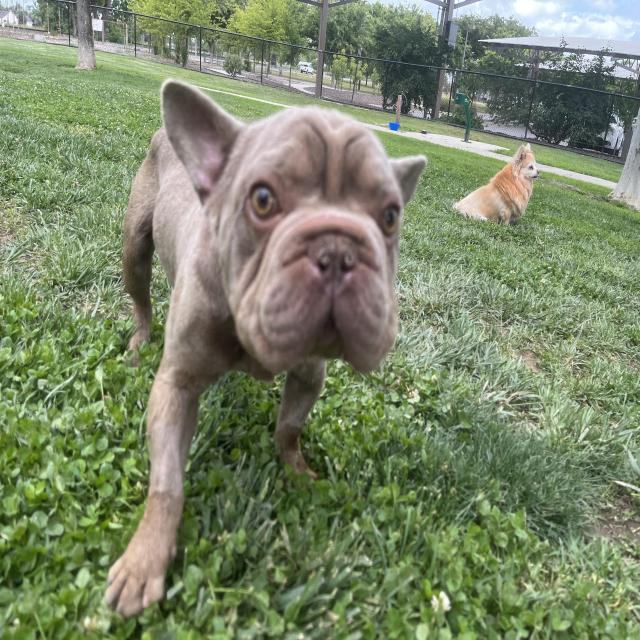french_bulldog_dog: (152, 75, 436, 382)
pomeranian_dog: (508, 142, 544, 183)
